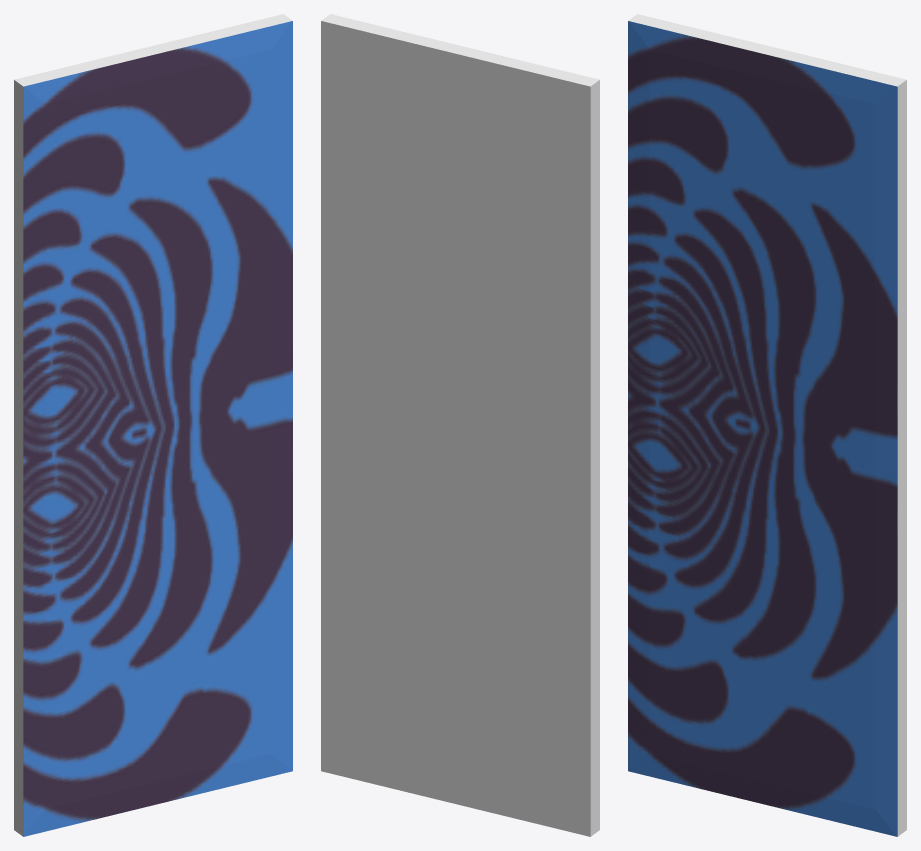
File: Picture_Rec_01_C2.FBX
The picture shows the model from 3 angles, left to right: view 1: azimuth 30°, elevation 25°; view 2: azimuth 150°, elevation 25°; view 3: azimuth 330°, elevation 25°; orthographic projection.
Visible parts, largest first — view 1: Rectangle_Picture; view 2: Rectangle_Picture; view 3: Rectangle_Picture.
Boxes of the visible parts, x1,y1,x2,y2 form: Rectangle_Picture: [14, 14, 292, 836]; Rectangle_Picture: [321, 14, 599, 836]; Rectangle_Picture: [628, 14, 906, 836].
Bounding box in the file's own units: 66.19 × 176 × 4.21.
